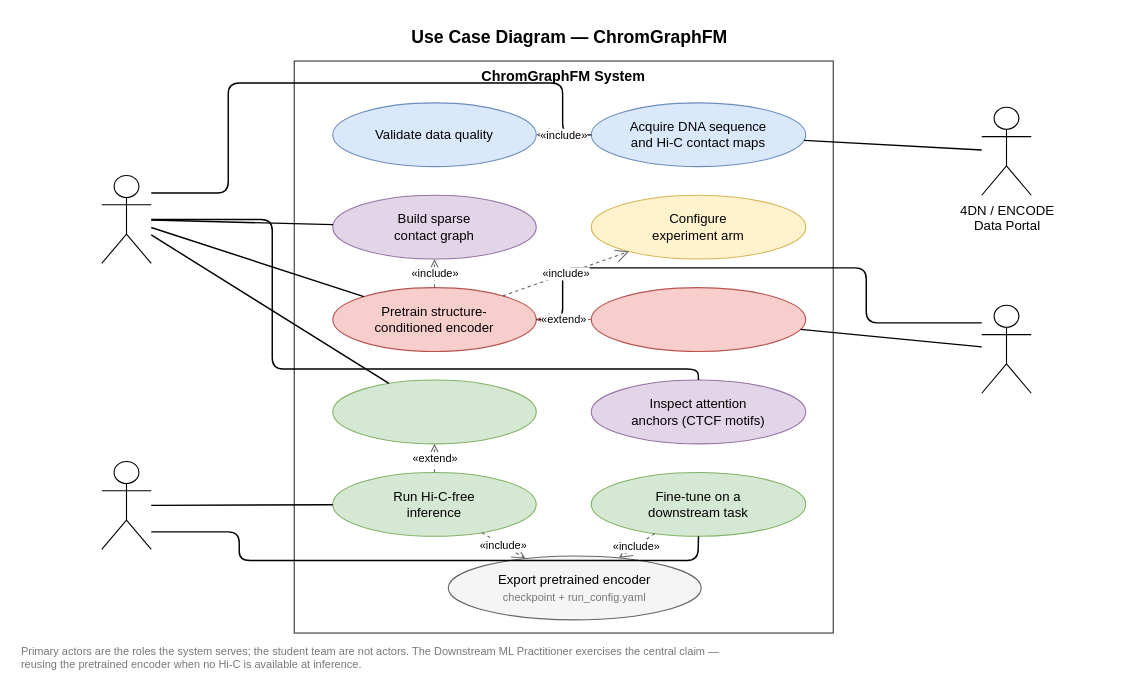
Some shapes in this 1137 by 690 pixel diagram are drawn without their labels. Here are the shapes that lost their labels. From the top down, the centre of each, then its label:
At point 126,218: "Genomics Researcher".
At point 698,319: "Run control / ablation arm (B0–B5)".
At point 1006,348: "GPU Compute Cluster (SLURM)".
At point 434,411: "Evaluate on held-out chromosome / cell line".
At point 126,504: "Downstream ML Practitioner".
